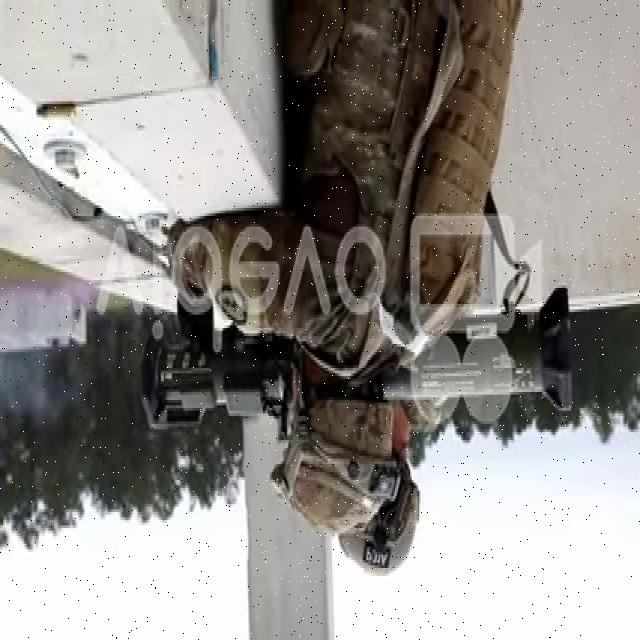bazooka: (138, 280, 582, 446)
